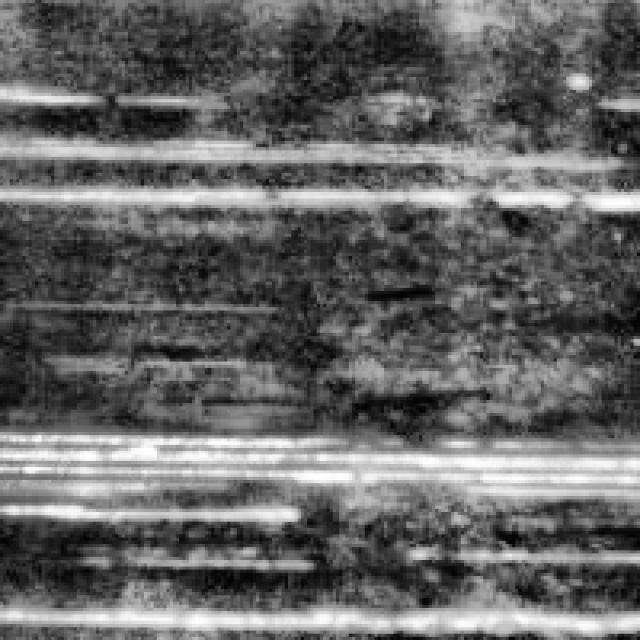Inclusion: (0, 118, 634, 214), (0, 422, 630, 518), (0, 596, 634, 630)
